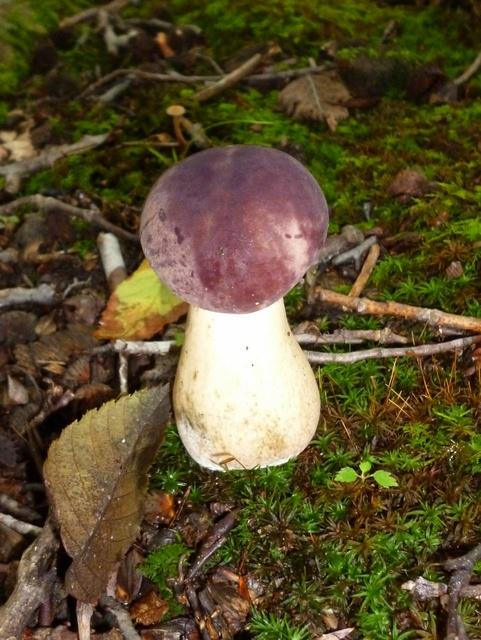Non-edible Mushroom: (137, 143, 330, 473)
